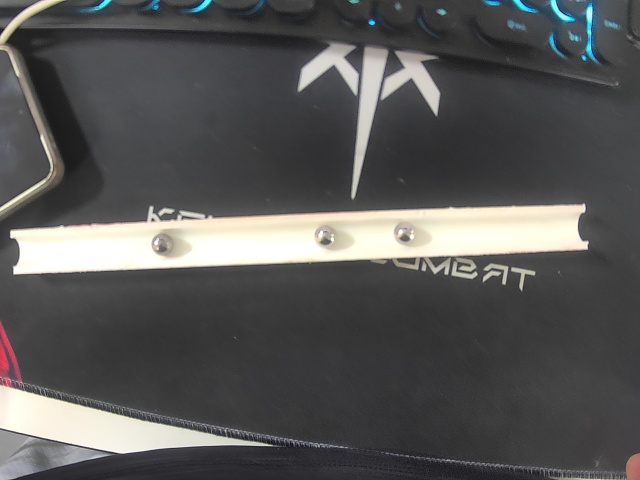steelball: (150, 231, 177, 258), (392, 220, 418, 246), (312, 224, 338, 249)
